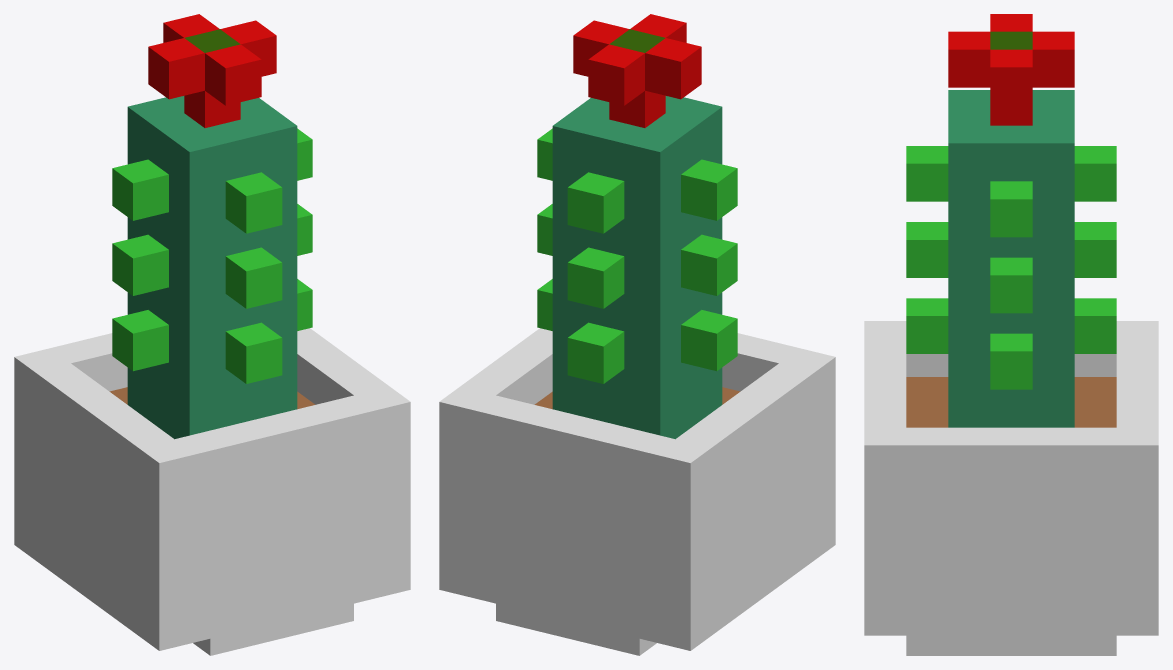
File: Voxel Universe-43-Cactus.obj
3 views of the same model, side by side, from view 1: azimuth 30°, elevation 25°; view 2: azimuth 150°, elevation 25°; view 3: azimuth 270°, elevation 25° (orthographic).
Visible parts, largest first — view 1: Cactus; view 2: Cactus; view 3: Cactus.
Part boxes in pixels (x1,y1,x2,y2): Cactus: (14, 14, 410, 655); Cactus: (439, 14, 835, 655); Cactus: (864, 14, 1158, 655).
Size of the model in its own units: 0.7 by 1.5 by 0.7.
1 material, 1 textured.
